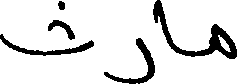ا: (153, 0, 183, 65)
ث: (0, 0, 92, 56)
ر: (103, 36, 154, 82)
م: (211, 21, 235, 59)
